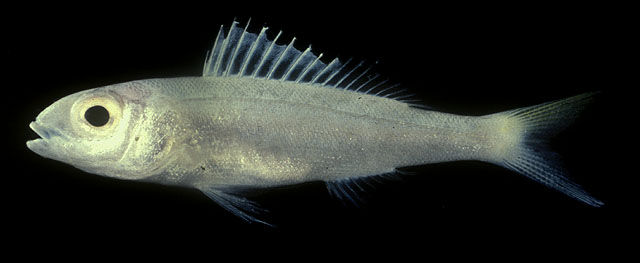fish: (24, 17, 605, 226)
